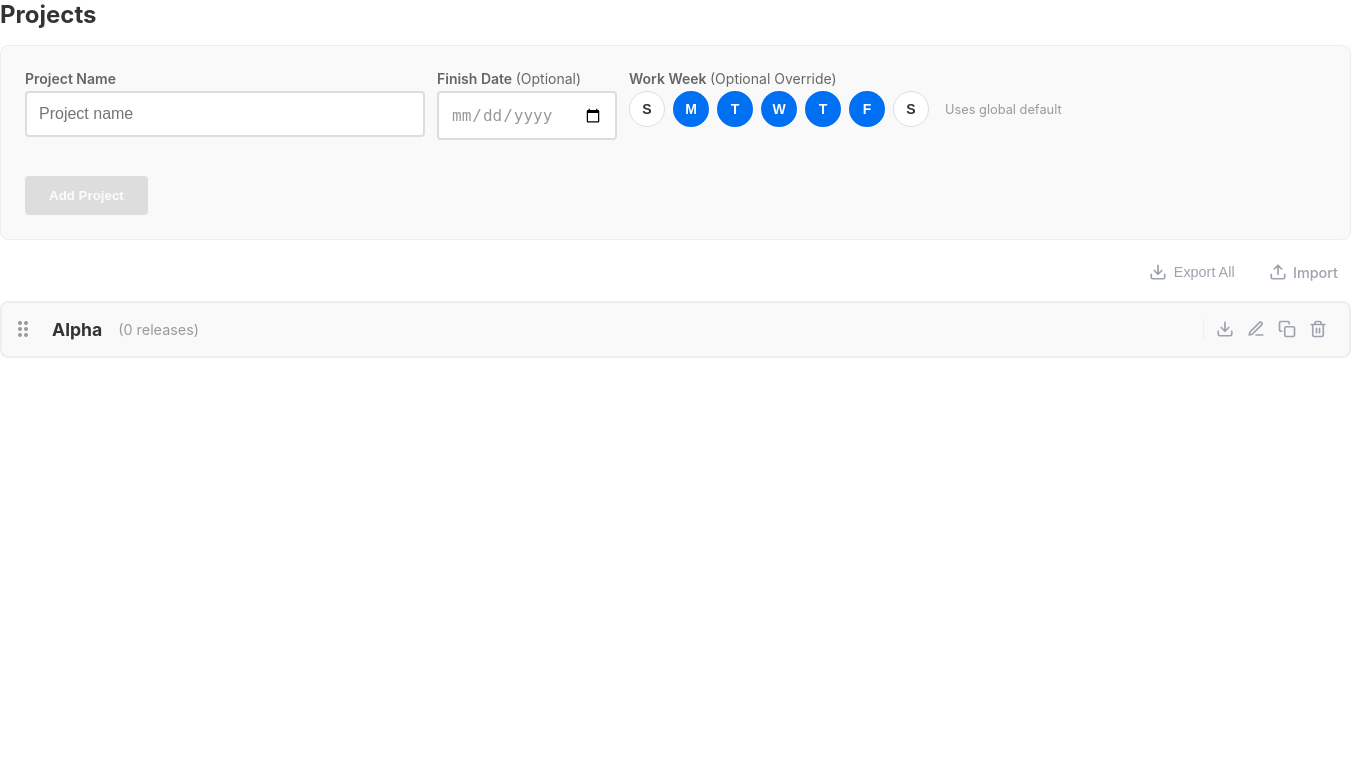
Test: ProjectsTab › delete project › shows confirmation dialog on Delete click
This screenshot has width=1366, height=768.
Click the button named "Delete project". click: (1318, 329)
box: [1304,315,1333,344]
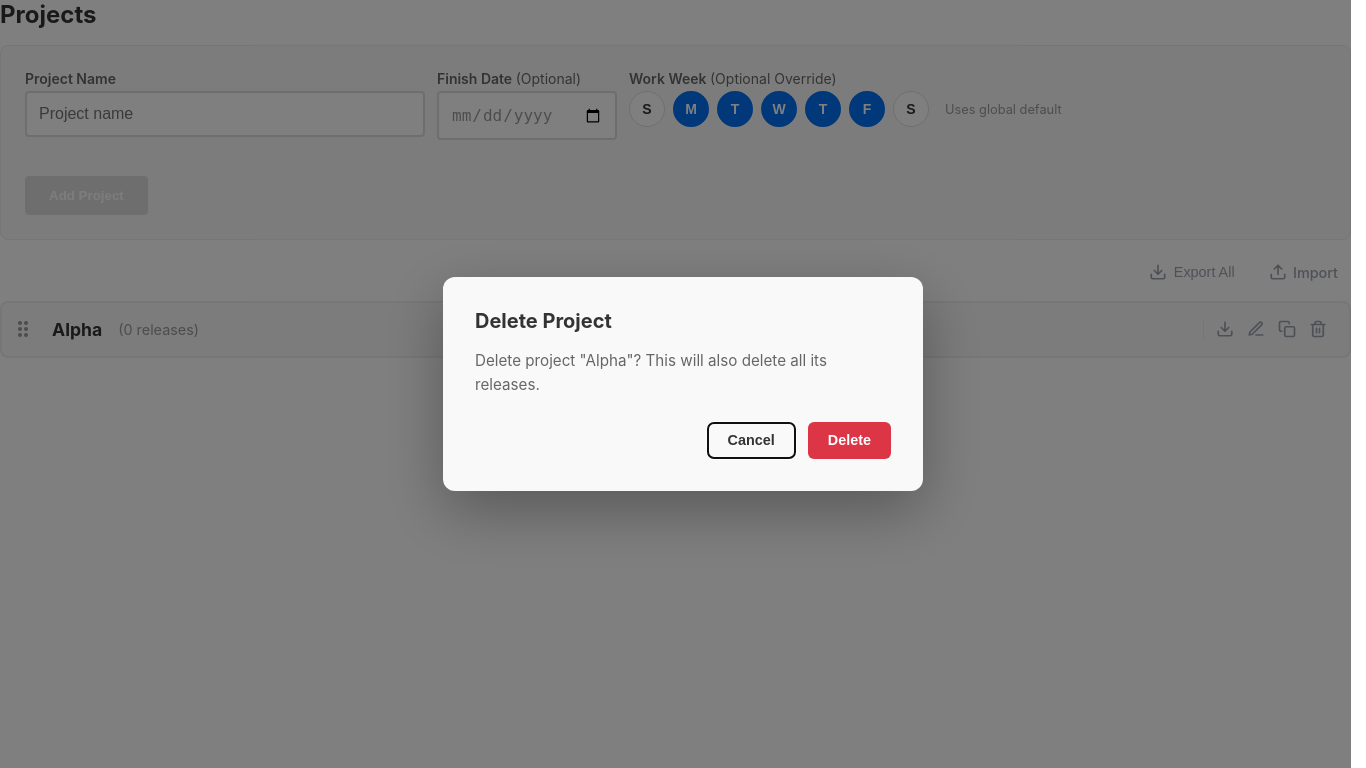
Expected: the heading "Delete Project" is shown, [475,309,612,333]
Expected: the text "Delete project \"Alpha\"" is shown, [475,351,827,394]
